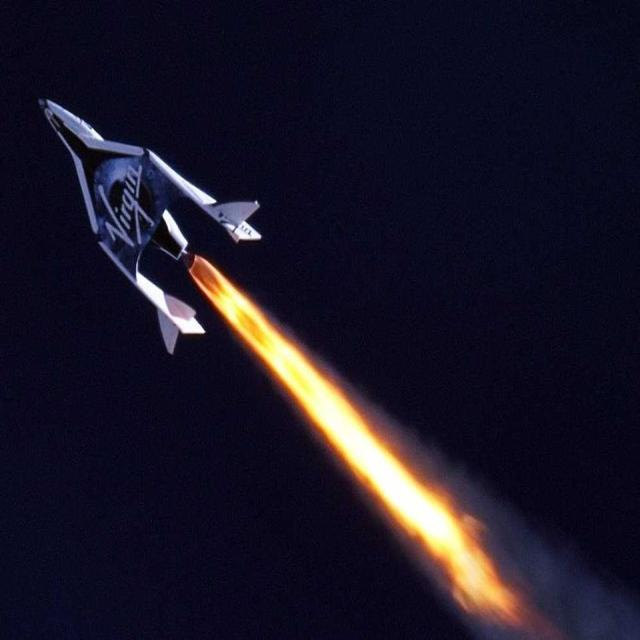medium_debris: (198, 245, 538, 633)
rocket: (32, 85, 278, 361)
